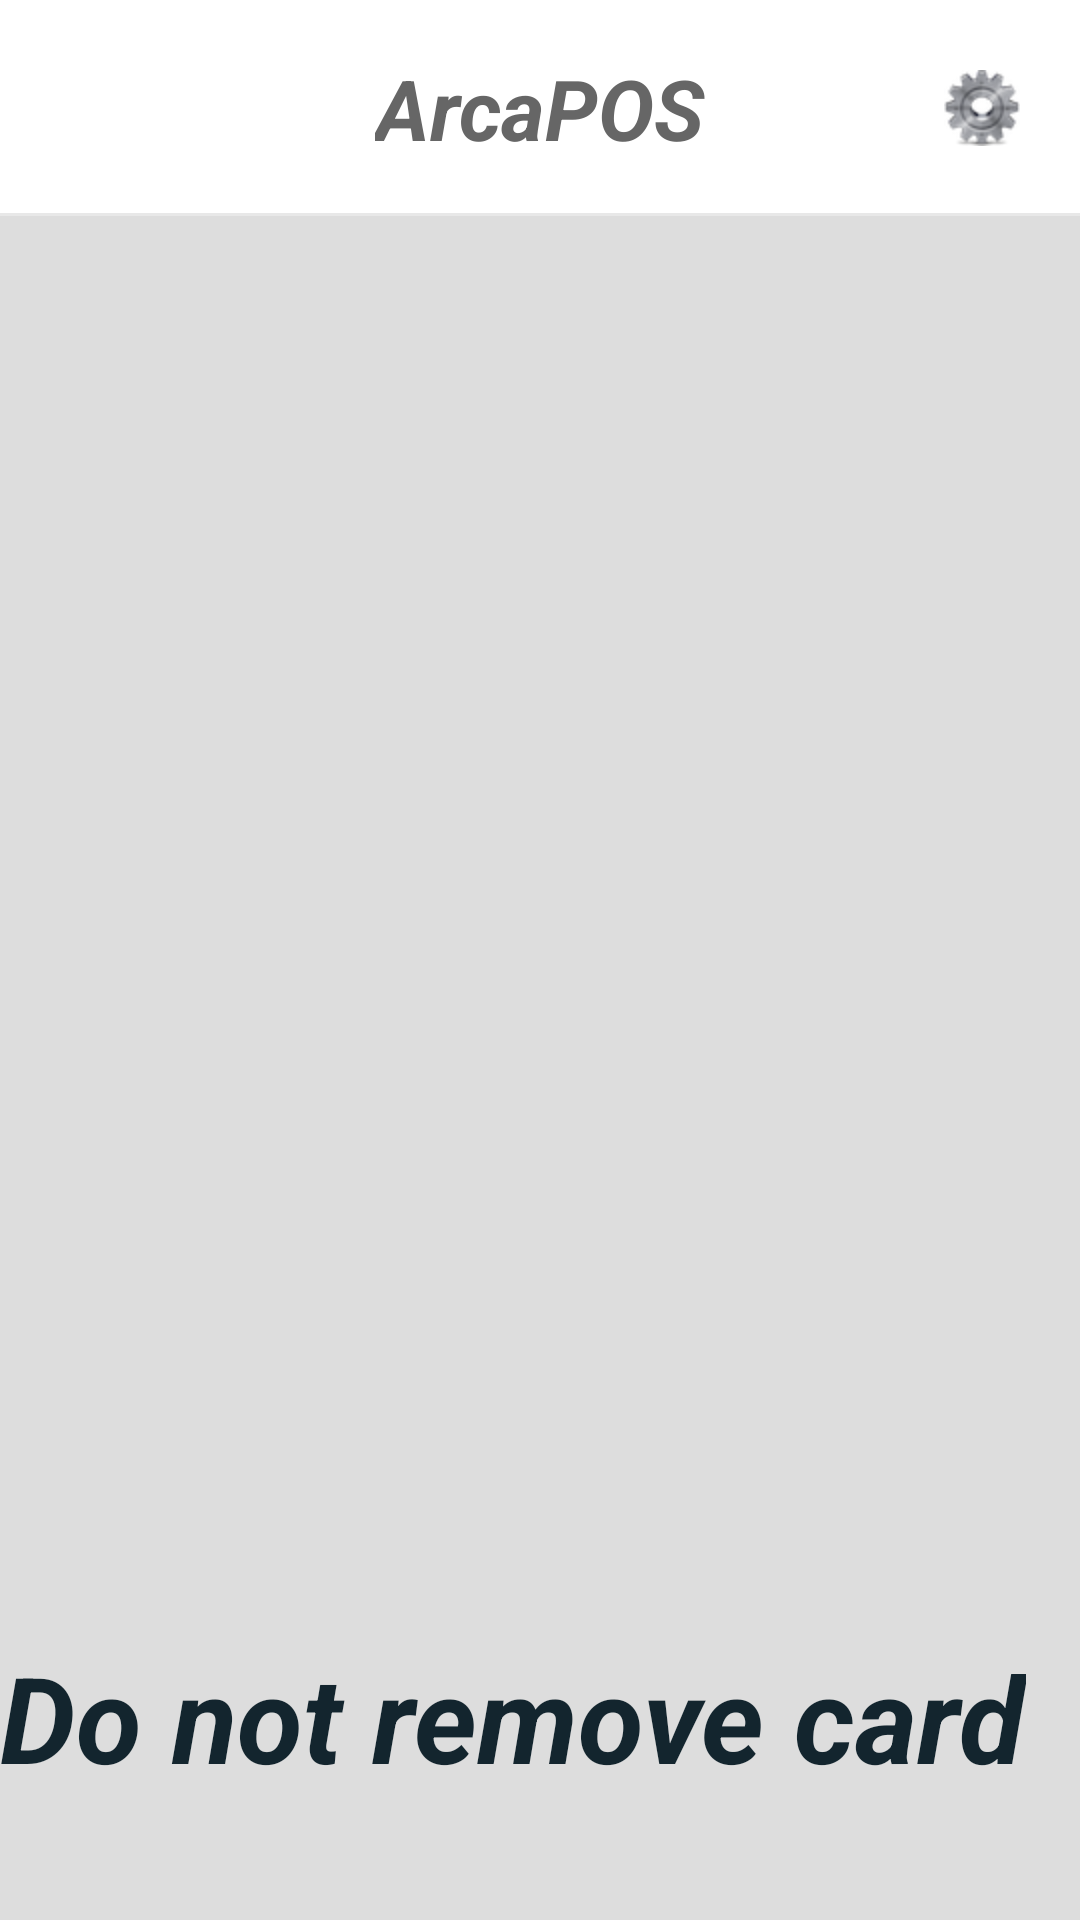

Icons on this 1080px×1920px Android screen, each with the point to tap as (x=x, y=y):
settings: (x=982, y=108)
